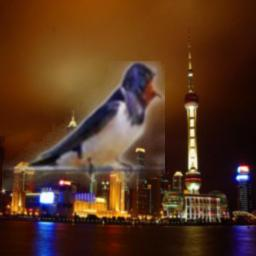Swallow: (2, 61, 165, 191)
